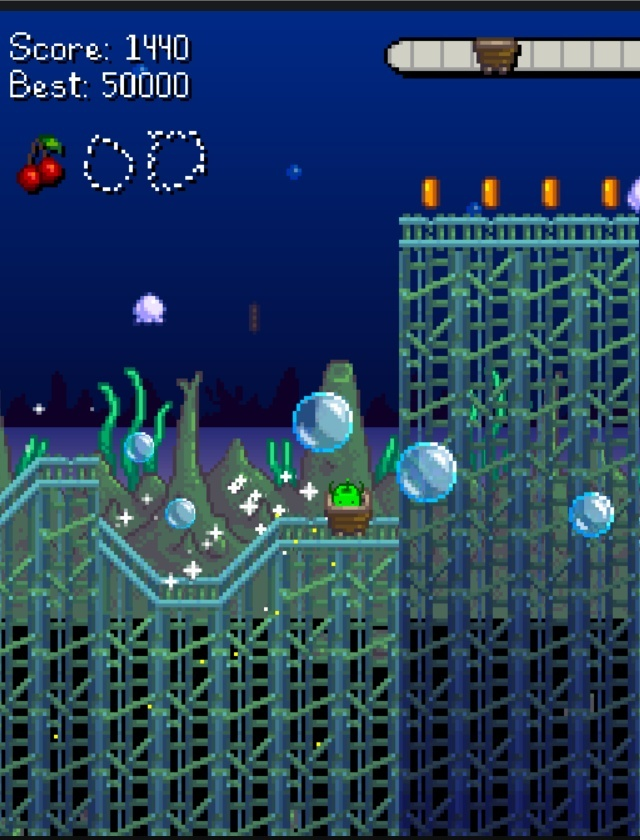bubble: (292, 392, 353, 452), (397, 444, 456, 501), (569, 492, 614, 538), (165, 498, 195, 529), (124, 432, 154, 462)
coins: (481, 177, 499, 209), (542, 177, 559, 209), (602, 177, 619, 209), (422, 177, 439, 208)
minecart: (325, 491, 371, 534)
tracks: (79, 503, 407, 618), (392, 208, 640, 255), (0, 450, 112, 527)
